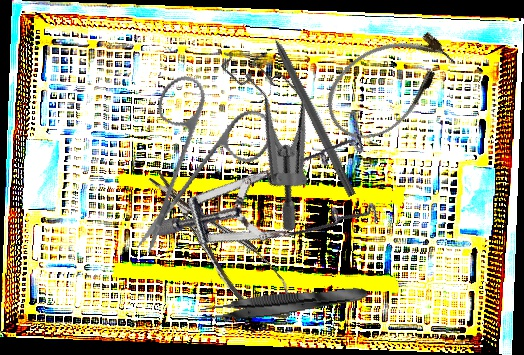Cannula: (310, 13, 467, 155)
Hook Surgical: (261, 16, 359, 198)
Iris Scissors: (95, 56, 296, 256)
Micro Scissor: (139, 155, 305, 334)
Speculum: (149, 80, 402, 301), (169, 29, 368, 235)
Tissue Forceps: (199, 281, 369, 327)
